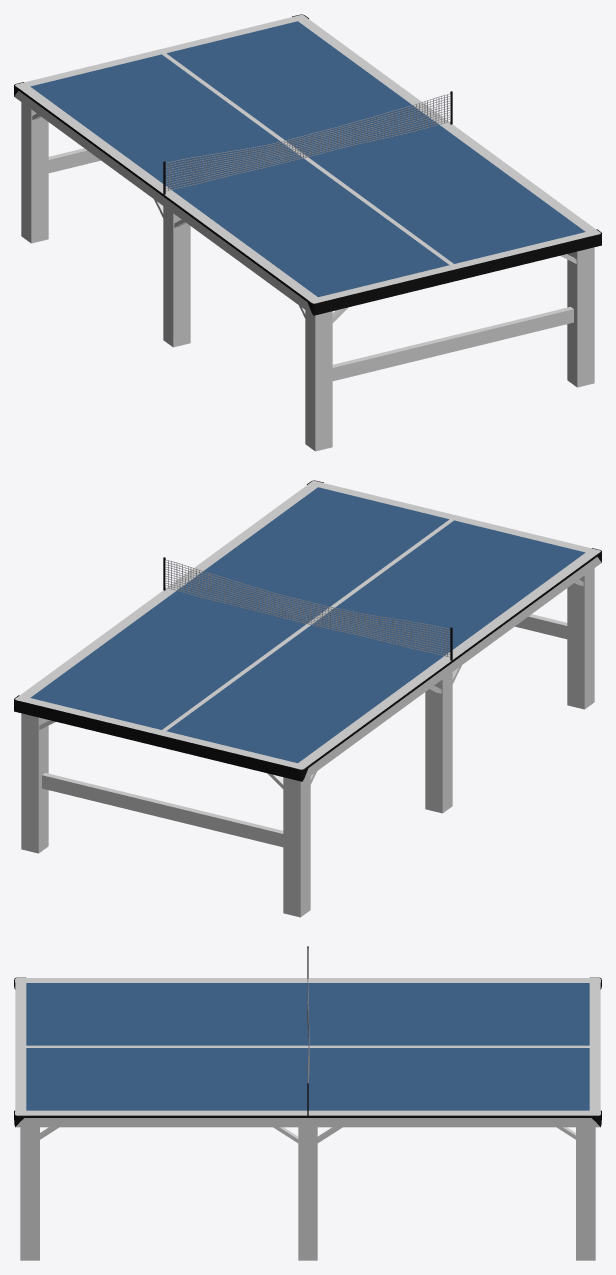
File: good-table.fbx
3 views of the same model, one above another, from view 1: azimuth 30°, elevation 25°; view 2: azimuth 150°, elevation 25°; view 3: azimuth 270°, elevation 25° (orthographic). The views are drawn at different scales.
Parts seen in each view (by area): view 1: Table top, Legs, net.001; view 2: Table top, Legs, net.001; view 3: Table top, Legs, Leg supports.
Part boxes in pixels (x1=…): Table top: x1=14, y1=14, x2=601, y2=315; Legs: x1=21, y1=102, x2=594, y2=451; net.001: x1=165, y1=93, x2=450, y2=191; Table top: x1=14, y1=480, x2=601, y2=781; Legs: x1=21, y1=568, x2=594, y2=917; net.001: x1=165, y1=559, x2=450, y2=657; Table top: x1=14, y1=977, x2=601, y2=1127; Legs: x1=20, y1=1127, x2=595, y2=1260; Leg supports: x1=40, y1=1127, x2=575, y2=1142.
Size of the model in its own units: 153 by 92.39 by 275.
